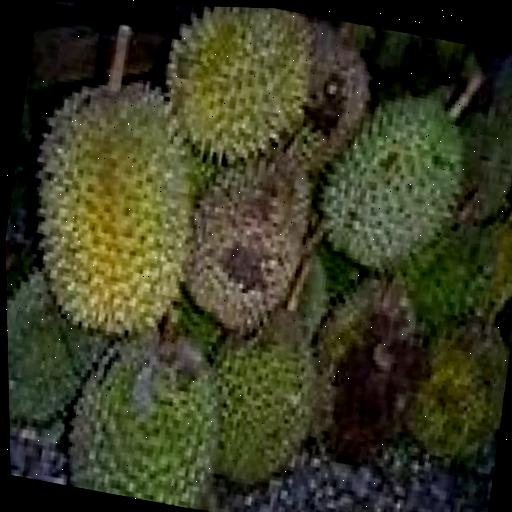rot: (134, 112, 359, 354), (284, 247, 477, 487)
